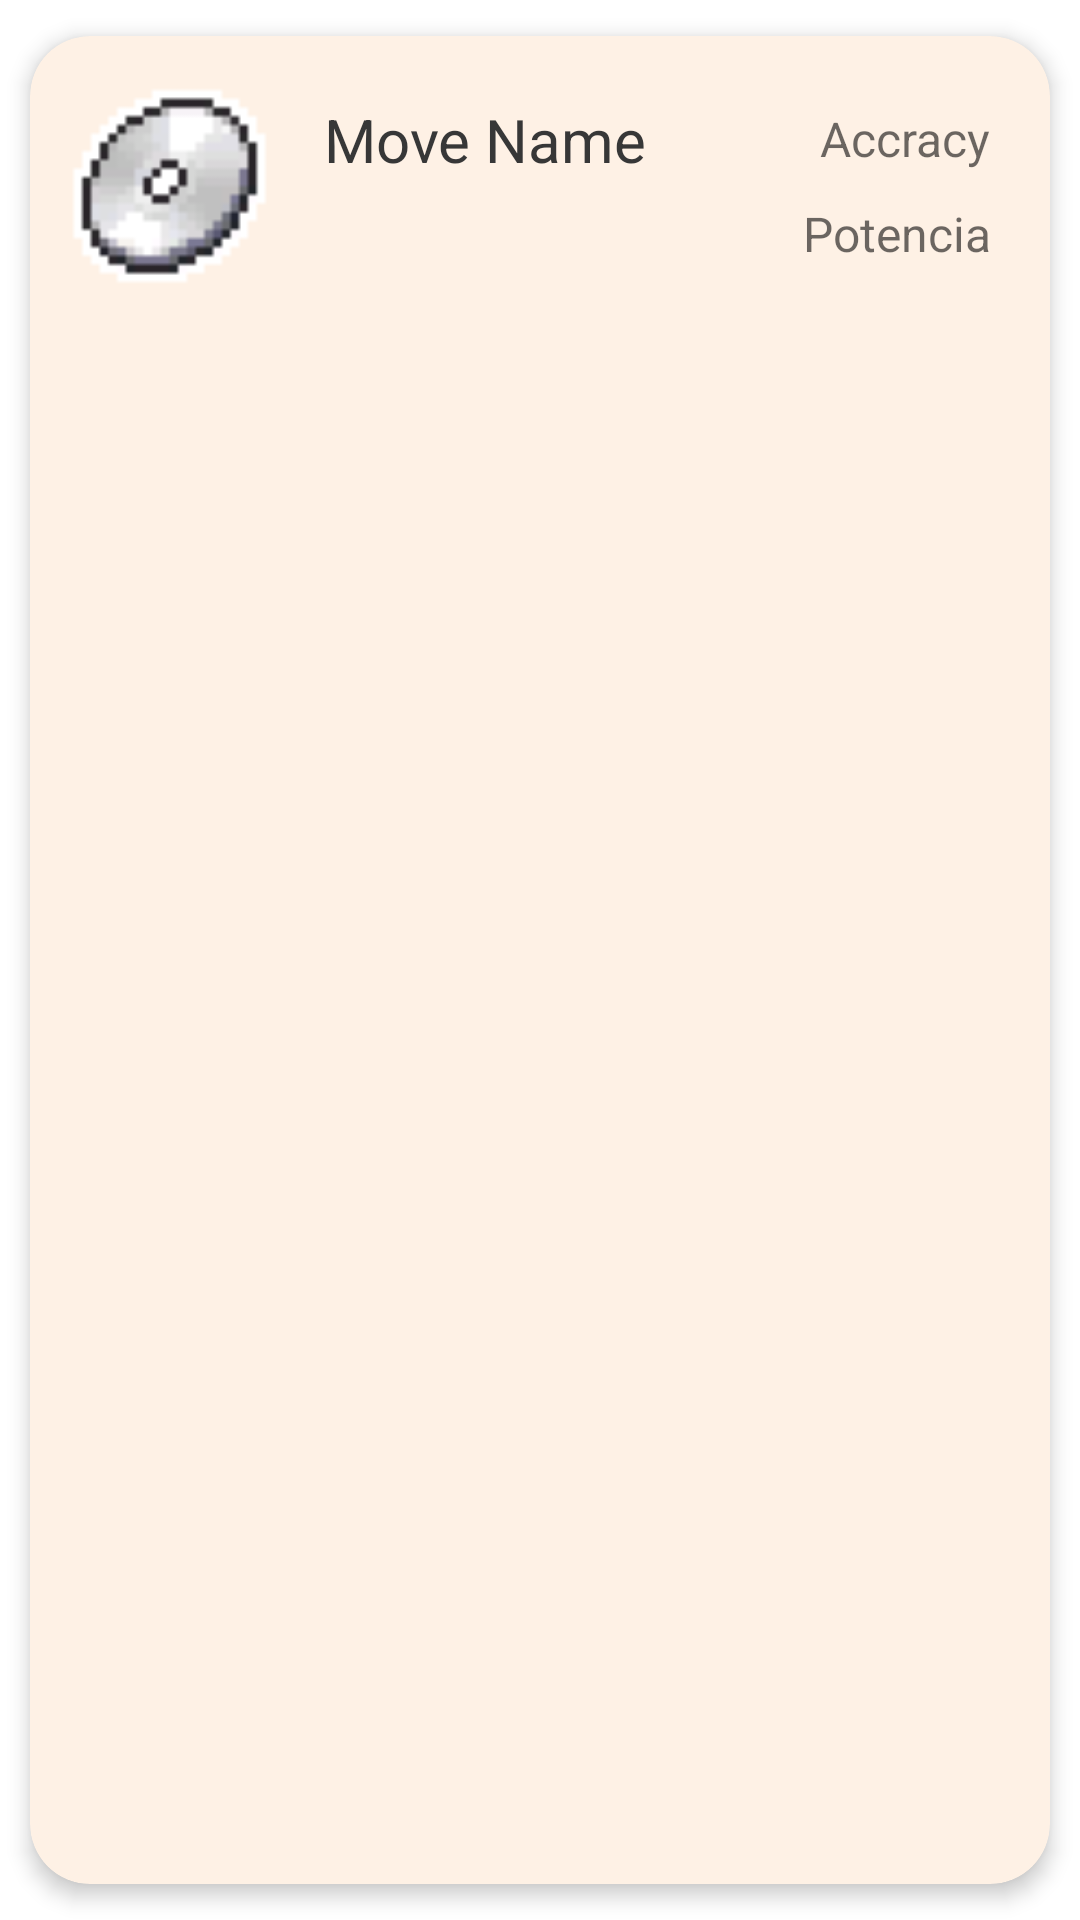

Where icons sit on this 1080x1920 app screen, as BBox(x1, y1, x2, y2):
img disco: BBox(76, 92, 263, 280)
